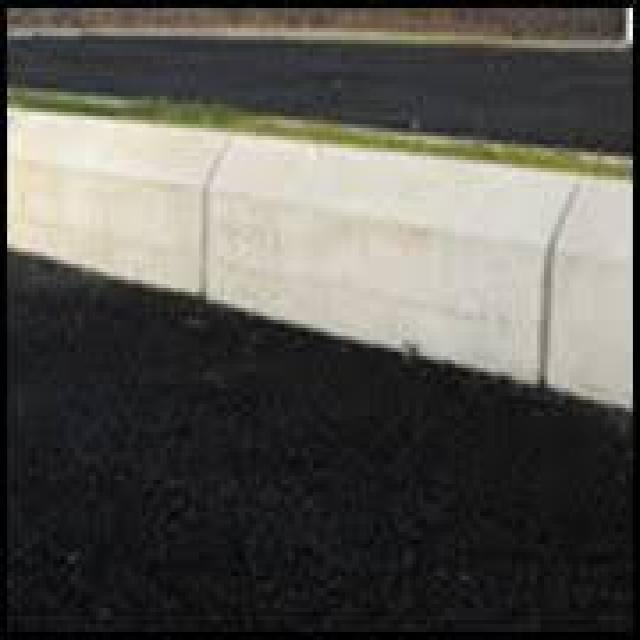curb: (253, 119, 640, 424), (10, 88, 245, 334)
